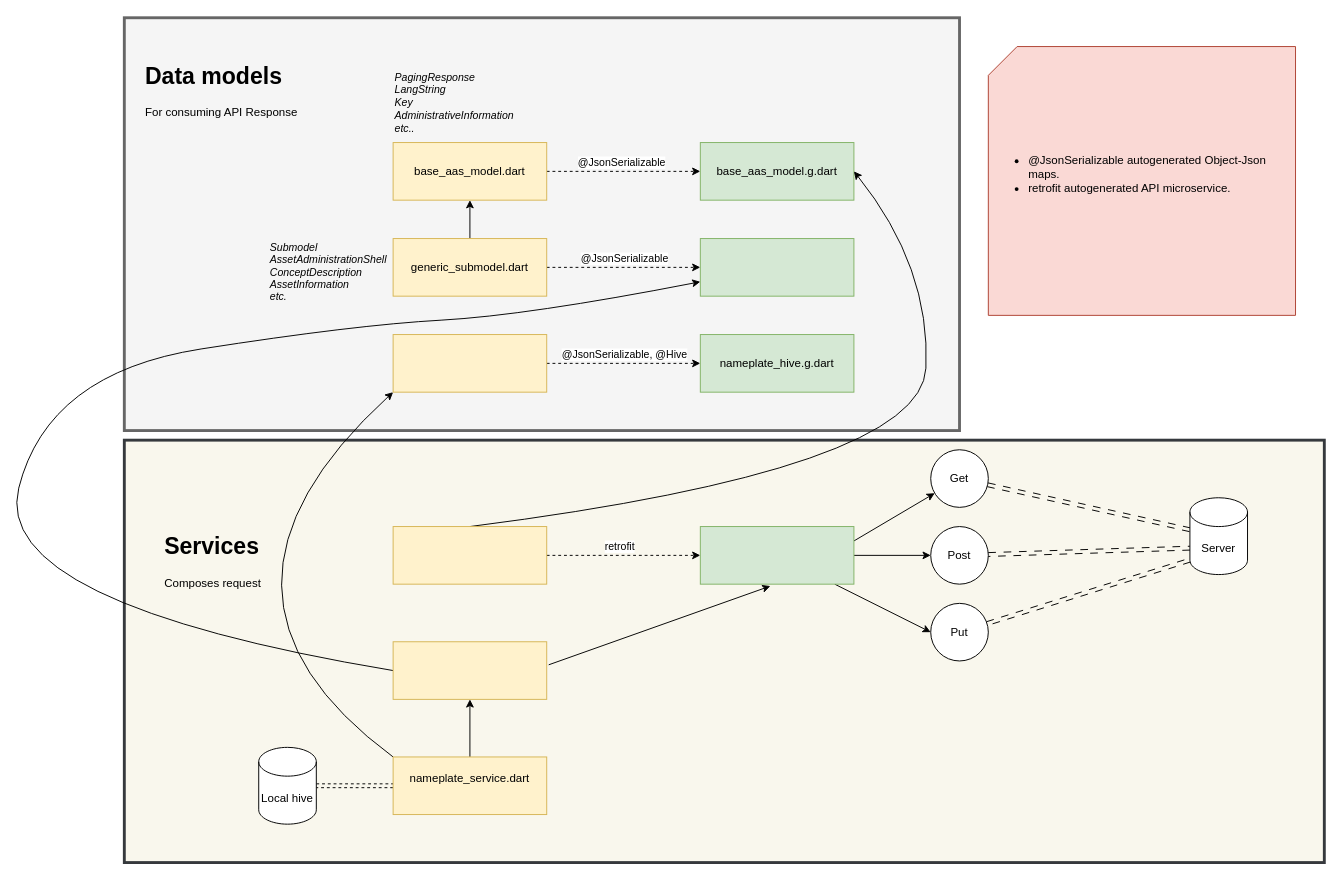
This 1342x880 diagram has some shape labels left out. The centre of each missing label's shape, as x and y in pixels:
"basyx_api_client .g.dart" belongs at point 776,555.
"basyx_api_client.dart" belongs at point 469,555.
"generic_submodel .g.dart" belongs at point 776,267.
"nameplate_hive.dart" belongs at point 469,363.
"submodel_service.dart" belongs at point 469,670.
